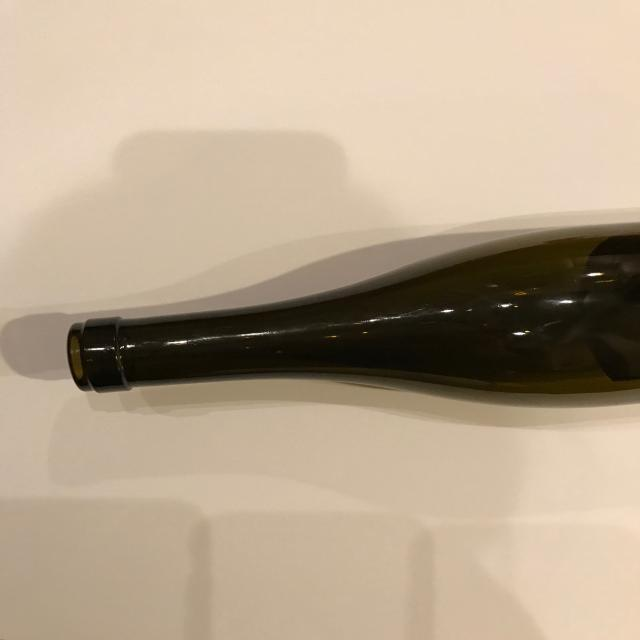glass: (68, 231, 640, 401)
